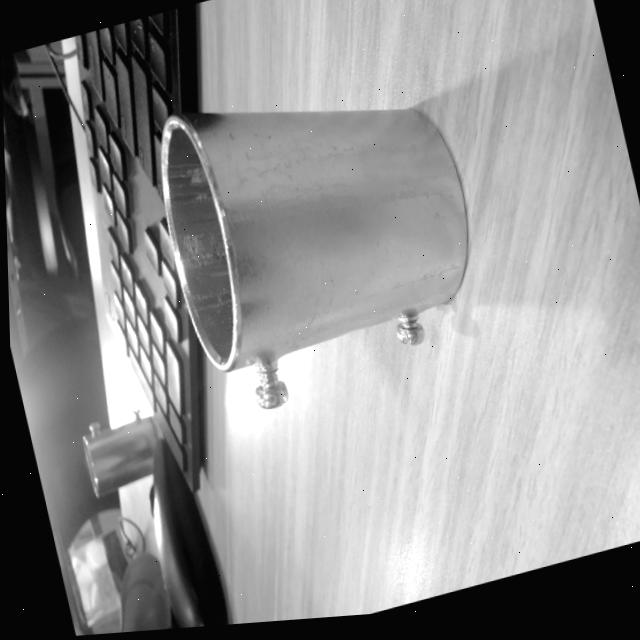Co_Lon: (157, 99, 475, 413)
